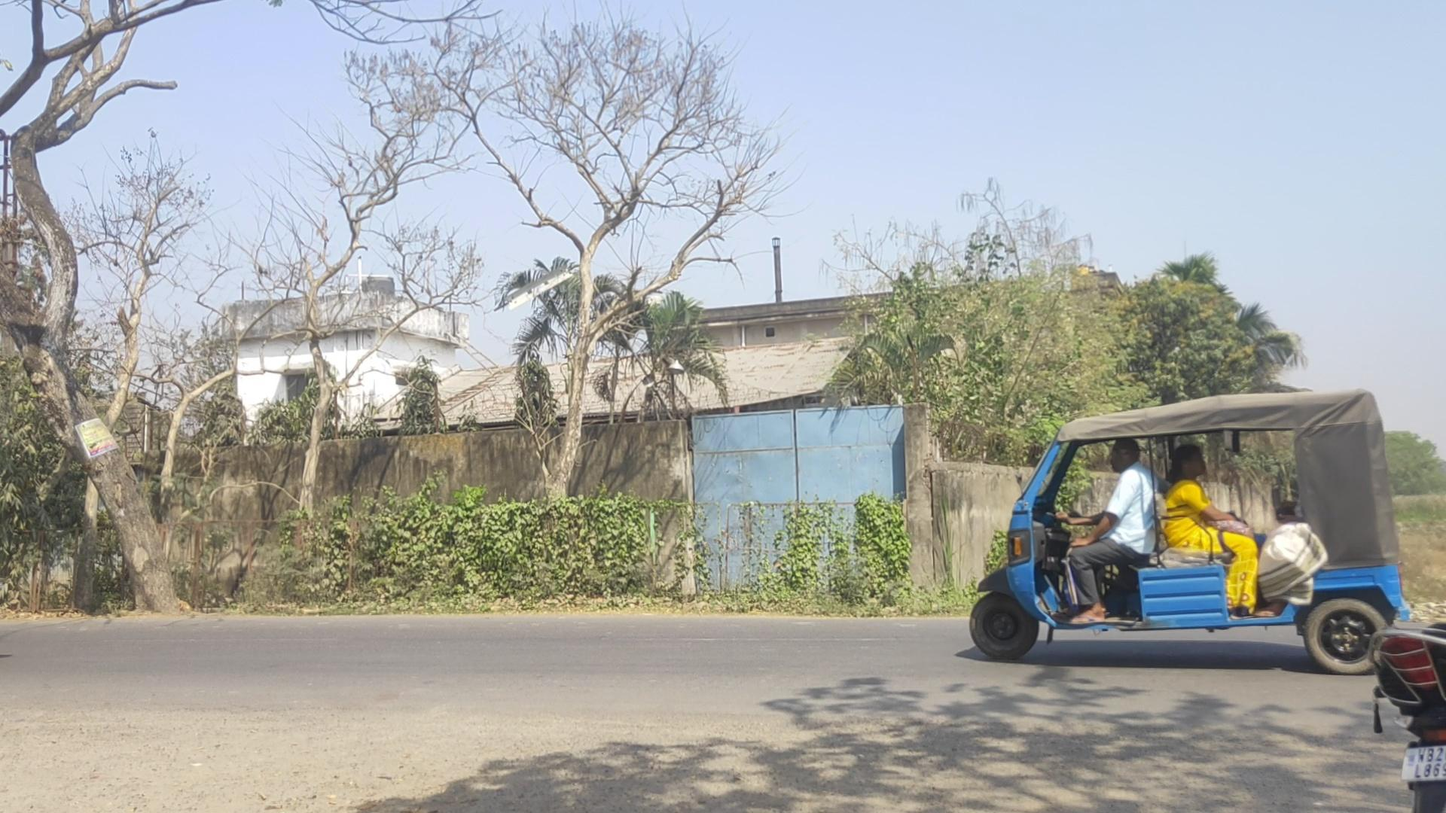Auto: (969, 388, 1409, 677)
